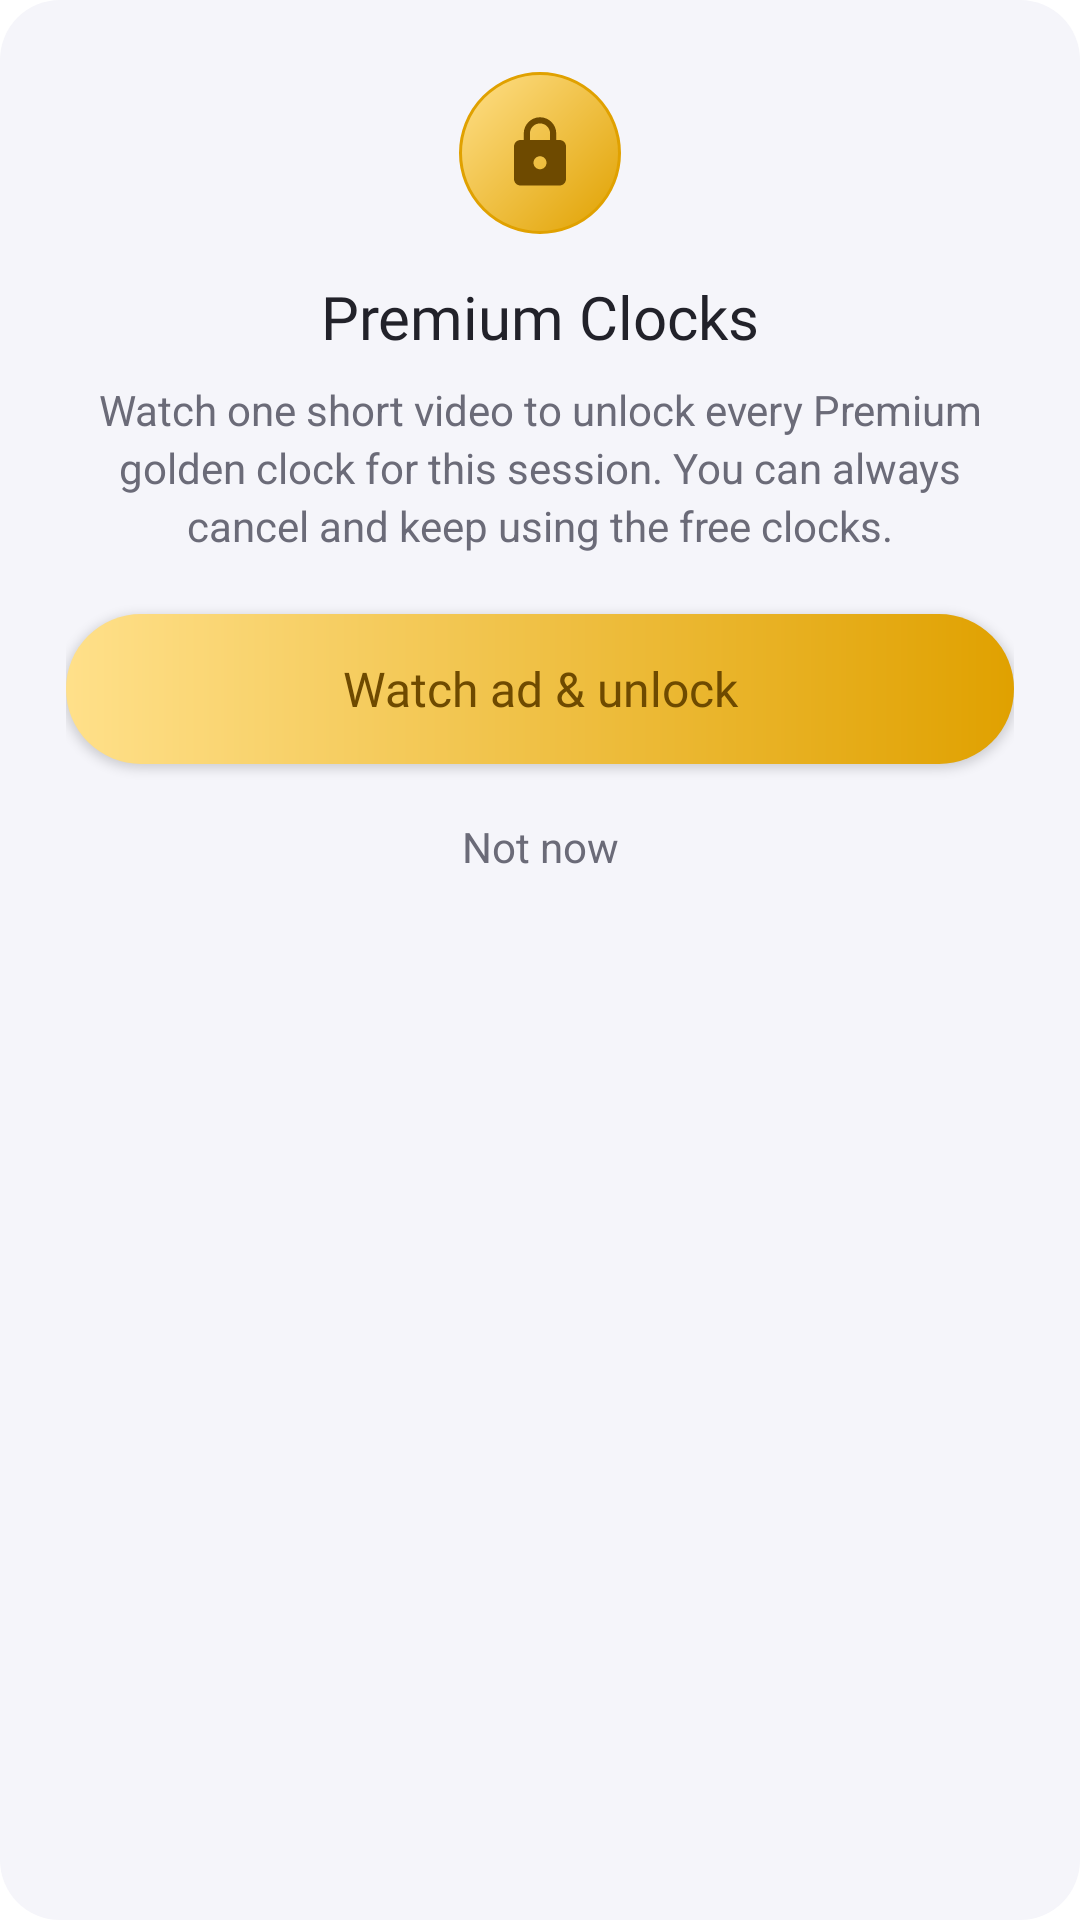

Locate icon controls on the screen. Image size 1080 × 1920, boxes as region(x1, y1, x2, y2).
Premium clock, watch an ad to unlock: region(459, 72, 621, 234)
